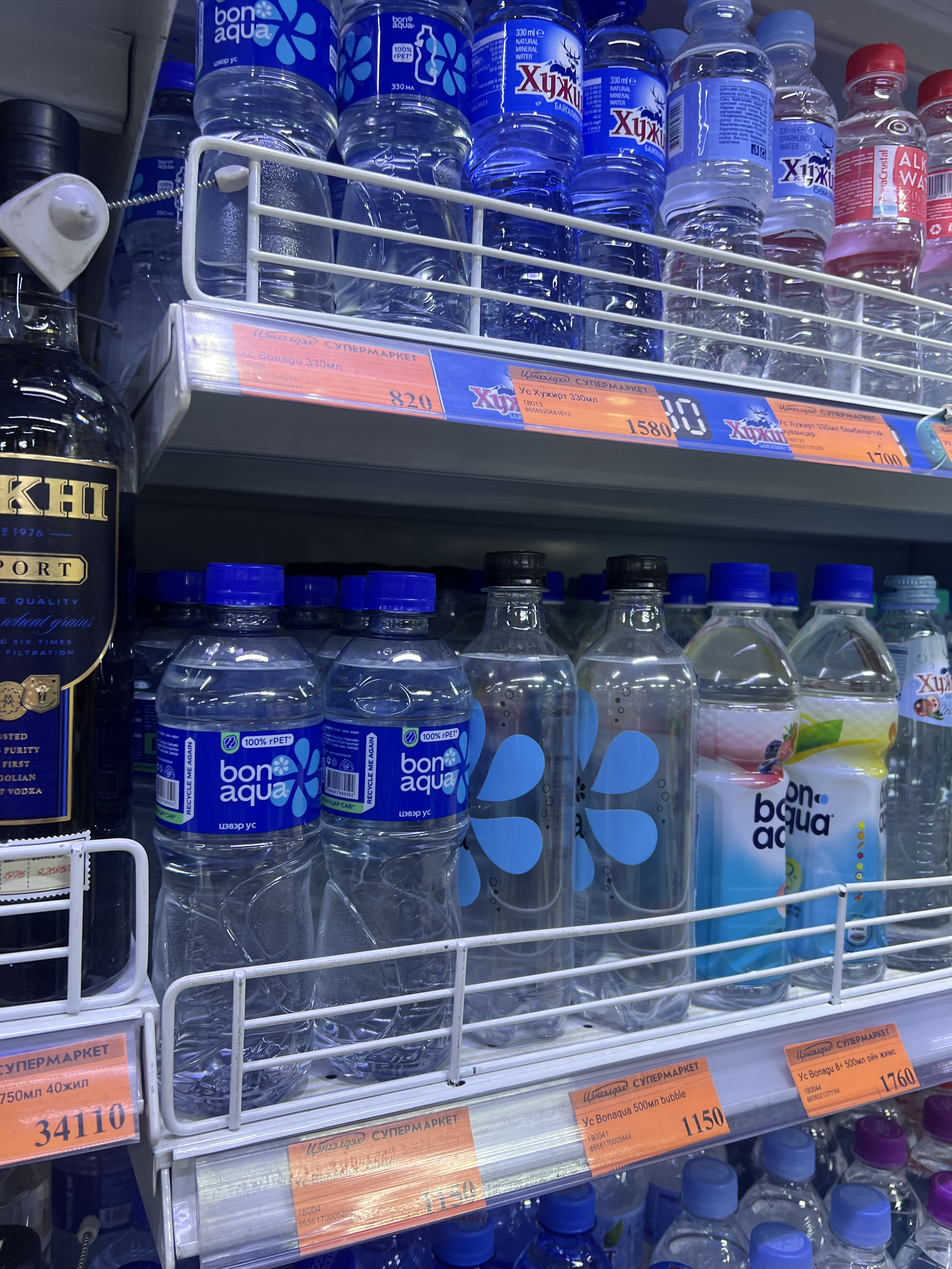bonaqua_500ml: (136, 562, 329, 1103), (329, 553, 475, 1080), (184, 0, 338, 322), (338, 0, 477, 335)
